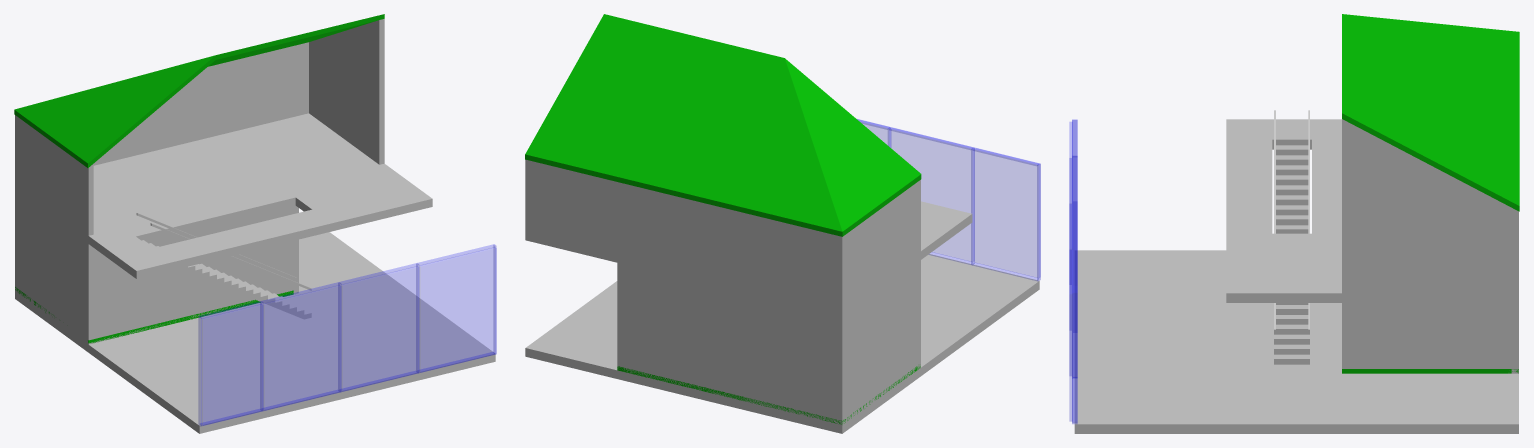
Rendered from Project1-assimp.gltf.
3 renders of one model, left to right at view 1: azimuth 30°, elevation 25°; view 2: azimuth 150°, elevation 25°; view 3: azimuth 270°, elevation 25°, orthographic. The views are drawn at different scales.
Parts seen in each view (by area): view 1: IfcSlab_Floor:Floor1:2448_01voIVhOv9$Ojm_Z8H9ipO, IfcSlab_Floor:Floor1:3421_01voIVhOv9$Ojm_Z8H9iWL, IfcWallStandardCase_BasicWall:Wall1:2806_01voIVhOv9$Ojm_Z8H9, IfcWallStandardCase_BasicWall:Wall1:3889_01voIVhOv9$Ojm_Z8H9, IfcSlab_BasicRoof:Roof1:4343_01voIVhOv9$Ojm_Z0H9jM$, IfcWallStandardCase_BasicWall:Wall1:4008_01voIVhOv9$Ojm_Z8H9, IfcMappedItem, IfcMappedItem_node, IfcMappedItem_node_0, IfcWallStandardCase_BasicWall:Wall1:2860_01voIVhOv9$Ojm_Z8H9, IfcMappedItem_node_1, IfcWallStandardCase_BasicWall:Wall1:4204_01voIVhOv9$Ojm_Z8H9 (+3 smaller); view 2: IfcSlab_BasicRoof:Roof1:4343_01voIVhOv9$Ojm_Z4H9jM$, IfcWallStandardCase_BasicWall:Wall1:2536_01voIVhOv9$Ojm_Z8H9, IfcWallStandardCase_BasicWall:Wall1:3889_01voIVhOv9$Ojm_Z8H9, IfcSlab_Floor:Floor1:2448_01voIVhOv9$Ojm_Z8H9ipO, IfcSlab_BasicRoof:Roof1:4343_01voIVhOv9$Ojm_Z0H9jM$, IfcWallStandardCase_BasicWall:Wall1:2860_01voIVhOv9$Ojm_Z8H9, IfcMappedItem_node_1, IfcWallStandardCase_BasicWall:Wall1:4204_01voIVhOv9$Ojm_Z8H9, IfcSlab_Floor:Floor1:3421_01voIVhOv9$Ojm_Z8H9iWL, IfcMappedItem_node_0, IfcSlab_BasicRoof:Roof1:3336_01voIVhOv9$Ojm_Z0H9iX0; view 3: IfcSlab_Floor:Floor1:2448_01voIVhOv9$Ojm_Z8H9ipO, IfcSlab_BasicRoof:Roof1:4343_01voIVhOv9$Ojm_Z4H9jM$, IfcWallStandardCase_BasicWall:Wall1:4008_01voIVhOv9$Ojm_Z8H9, IfcSlab_Floor:Floor1:3421_01voIVhOv9$Ojm_Z8H9iWL, IfcWallStandardCase_BasicWall:Wall1:2668_01voIVhOv9$Ojm_Z8H9, IfcStairFlight_Cast-In-PlaceStair:Stair:3547Run1_01voIVhOv9$, IfcSlab_BasicRoof:Roof1:3336_01voIVhOv9$Ojm_Z0H9iX0, IfcMappedItem_node_5, IfcMappedItem, IfcWallStandardCase_BasicWall:Wall1:3889_01voIVhOv9$Ojm_Z8H9, IfcWallStandardCase_BasicWall:Wall1:2536_01voIVhOv9$Ojm_Z8H9, IfcMappedItem_node_4 (+1 smaller).
Part boxes in pixels (x1,y1,x2,y2): IfcSlab_Floor:Floor1:2448_01voIVhOv9$Ojm_Z8H9ipO: (15,232,495,433); IfcSlab_Floor:Floor1:3421_01voIVhOv9$Ojm_Z8H9iWL: (15,113,432,278); IfcWallStandardCase_BasicWall:Wall1:2806_01voIVhOv9$Ojm_Z8H9: (85,206,293,344); IfcWallStandardCase_BasicWall:Wall1:3889_01voIVhOv9$Ojm_Z8H9: (15,42,308,183); IfcSlab_BasicRoof:Roof1:4343_01voIVhOv9$Ojm_Z0H9jM$: (14,55,215,167); IfcWallStandardCase_BasicWall:Wall1:4008_01voIVhOv9$Ojm_Z8H9: (309,19,384,164); IfcMappedItem: (419,247,496,371); IfcMappedItem_node: (342,266,418,390); IfcMappedItem_node_0: (264,285,340,410); IfcWallStandardCase_BasicWall:Wall1:2860_01voIVhOv9$Ojm_Z8H9: (18,192,85,341); IfcMappedItem_node_1: (202,304,262,425); IfcWallStandardCase_BasicWall:Wall1:4204_01voIVhOv9$Ojm_Z8H9: (18,117,93,235); IfcSlab_BasicRoof:Roof1:4343_01voIVhOv9$Ojm_Z4H9jM$: (525,14,842,236); IfcWallStandardCase_BasicWall:Wall1:2536_01voIVhOv9$Ojm_Z8H9: (617,263,845,424); IfcWallStandardCase_BasicWall:Wall1:3889_01voIVhOv9$Ojm_Z8H9: (525,159,845,308); IfcSlab_Floor:Floor1:2448_01voIVhOv9$Ojm_Z8H9ipO: (525,254,1039,433); IfcSlab_BasicRoof:Roof1:4343_01voIVhOv9$Ojm_Z0H9jM$: (785,58,921,236); IfcWallStandardCase_BasicWall:Wall1:2860_01voIVhOv9$Ojm_Z8H9: (845,263,917,422); IfcMappedItem_node_1: (974,149,1039,277); IfcWallStandardCase_BasicWall:Wall1:4204_01voIVhOv9$Ojm_Z8H9: (845,180,920,306); IfcSlab_Floor:Floor1:3421_01voIVhOv9$Ojm_Z8H9iWL: (525,201,972,317); IfcMappedItem_node_0: (891,128,973,261); IfcSlab_BasicRoof:Roof1:3336_01voIVhOv9$Ojm_Z0H9iX0: (617,366,920,424); IfcSlab_Floor:Floor1:2448_01voIVhOv9$Ojm_Z8H9ipO: (1074,250,1518,433); IfcSlab_BasicRoof:Roof1:4343_01voIVhOv9$Ojm_Z4H9jM$: (1342,14,1519,211); IfcWallStandardCase_BasicWall:Wall1:4008_01voIVhOv9$Ojm_Z8H9: (1342,119,1511,293); IfcSlab_Floor:Floor1:3421_01voIVhOv9$Ojm_Z8H9iWL: (1226,119,1518,302); IfcWallStandardCase_BasicWall:Wall1:2668_01voIVhOv9$Ojm_Z8H9: (1342,303,1511,368); IfcStairFlight_Cast-In-PlaceStair:Stair:3547Run1_01voIVhOv9$: (1274,145,1309,364); IfcSlab_BasicRoof:Roof1:3336_01voIVhOv9$Ojm_Z0H9iX0: (1342,369,1518,373); IfcMappedItem_node_5: (1072,293,1077,423); IfcMappedItem: (1069,250,1072,421); IfcWallStandardCase_BasicWall:Wall1:3889_01voIVhOv9$Ojm_Z8H9: (1511,208,1518,293); IfcWallStandardCase_BasicWall:Wall1:2536_01voIVhOv9$Ojm_Z8H9: (1511,303,1518,373); IfcMappedItem_node_4: (1072,247,1077,376).
Bounding box in the file's own units: 11.42 × 9.8 × 12.47.
